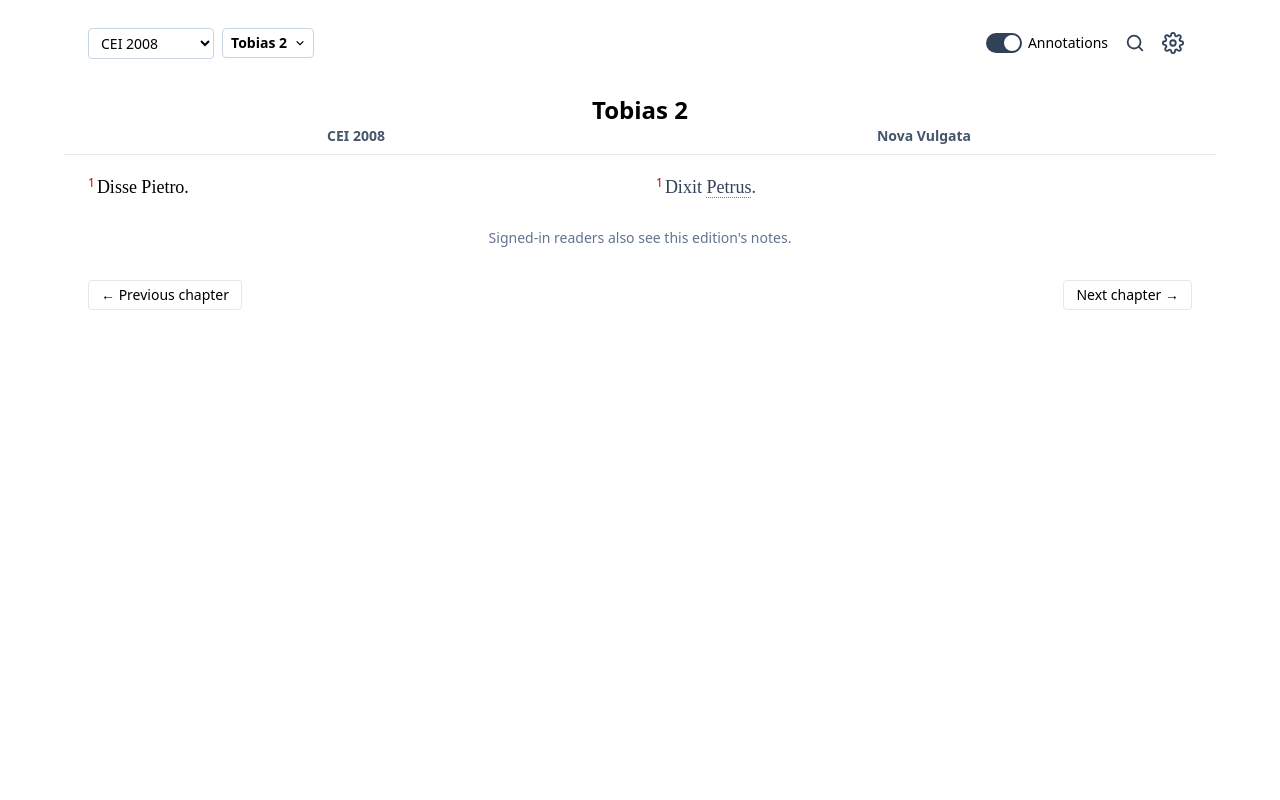
chapter › cardOfAComparedSideUsesThatSidesEdition
This screenshot has width=1280, height=800.
Click the button "Petrus" at (729, 187), box [706, 177, 751, 197]
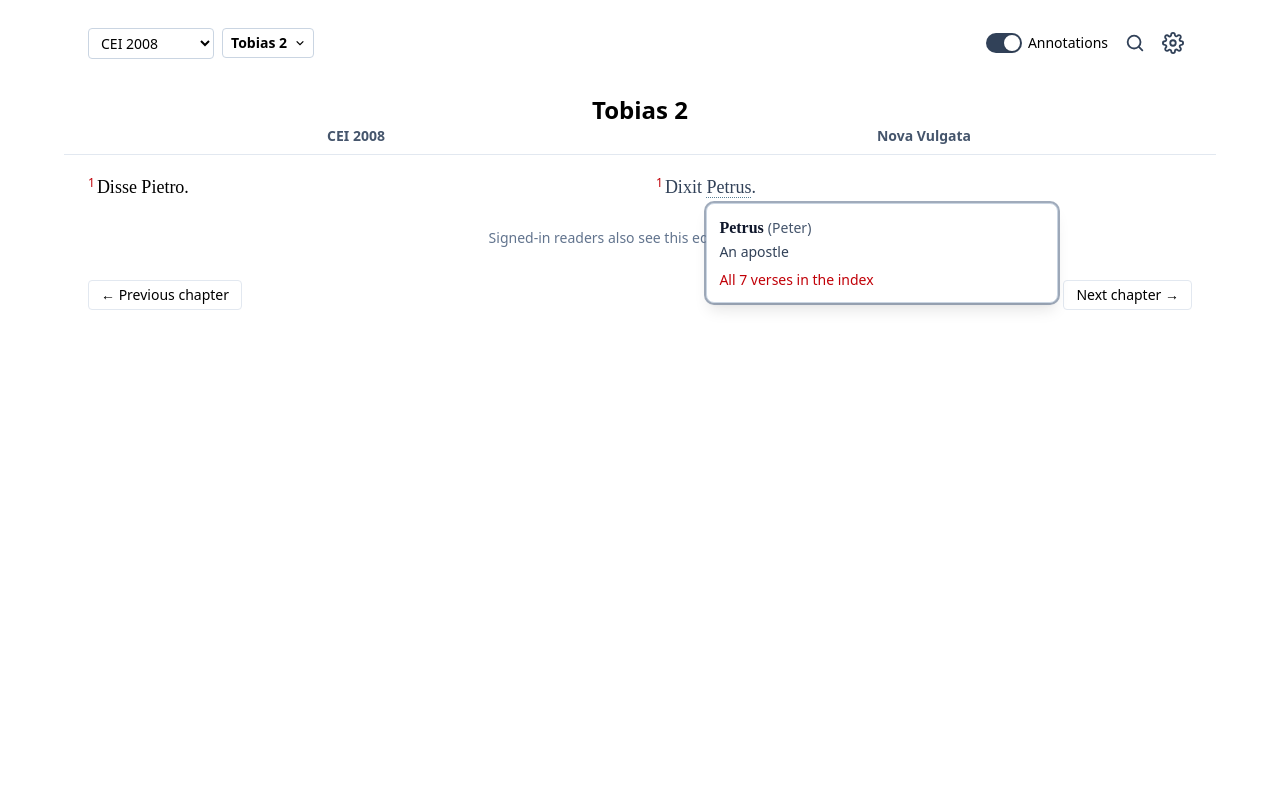
Now the text "(Peter)" is shown, box [768, 218, 811, 237]
